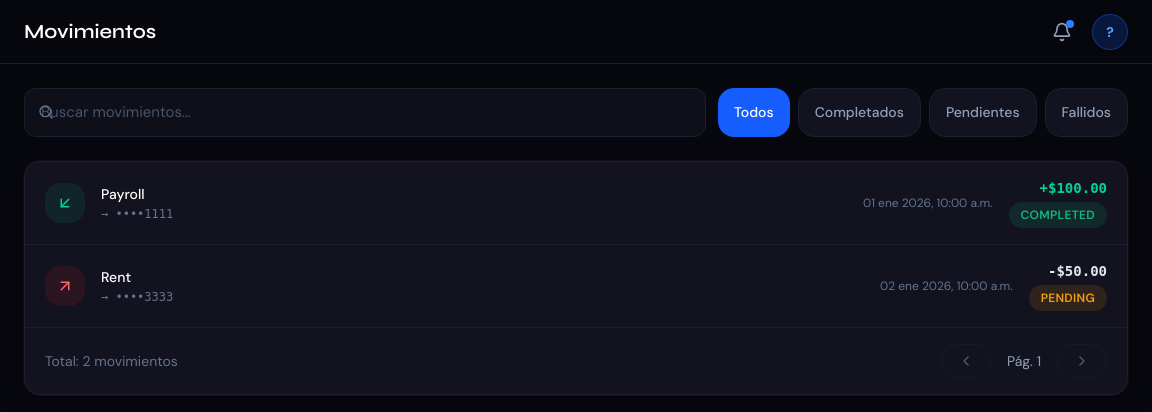
Test case: TransactionsPage › filters by status via the quick-filter buttons
Expected: the text "Payroll" is shown, [101,184,145,202]
Click the button "Pendientes" at (983, 112), box [929,88,1037,136]
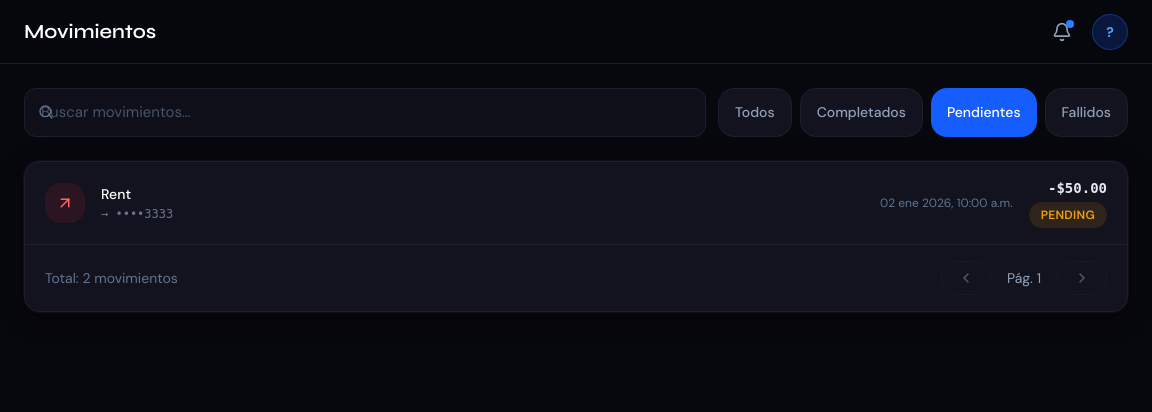
Expected: the text "Rent" is shown, [101,184,131,202]
Expected: the text "Payroll" is gone
